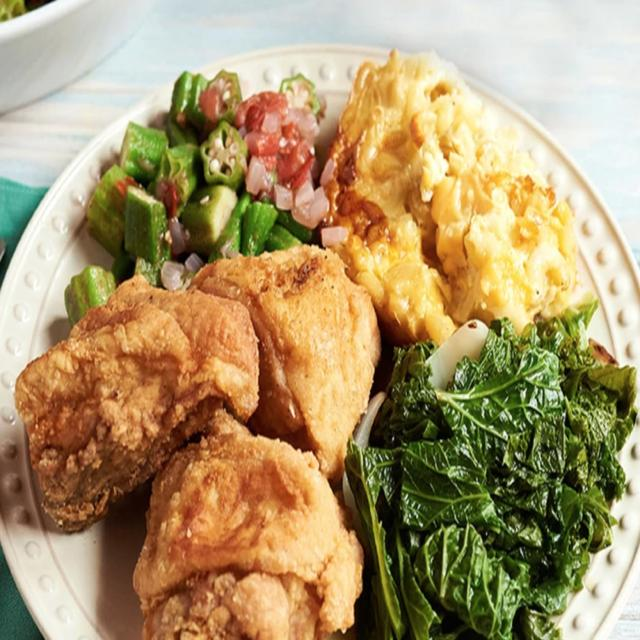Frango: (17, 248, 378, 640)
